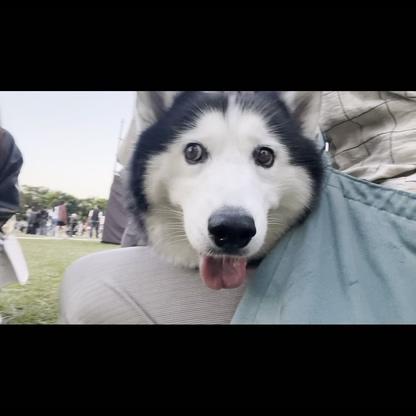husky: (125, 92, 337, 297)
